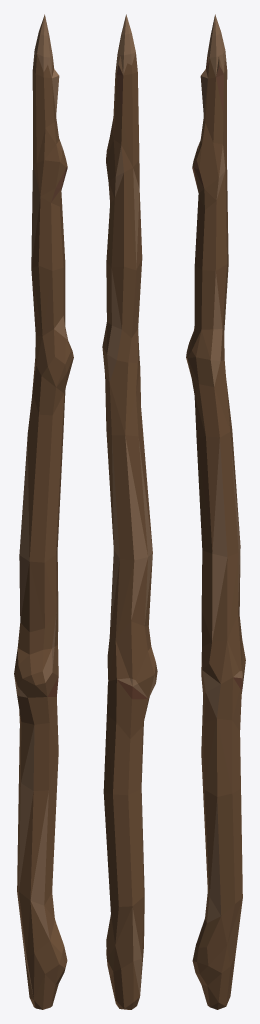
The model's file is mesh_spear_wood.fbx.
The picture shows the model from 3 angles, left to right: view 1: azimuth 90°, elevation 25°; view 2: azimuth 210°, elevation 25°; view 3: azimuth 270°, elevation 25°; orthographic projection.
Parts seen in each view (by area): view 1: mesh_spear_wood; view 2: mesh_spear_wood; view 3: mesh_spear_wood.
Boxes of the visible parts, box(x1,y1,x2,y2) form: mesh_spear_wood: box(14, 14, 73, 1009); mesh_spear_wood: box(102, 14, 157, 1009); mesh_spear_wood: box(186, 14, 245, 1009).
Bounding box in the file's own units: 0.094 × 1.94 × 0.1058.
